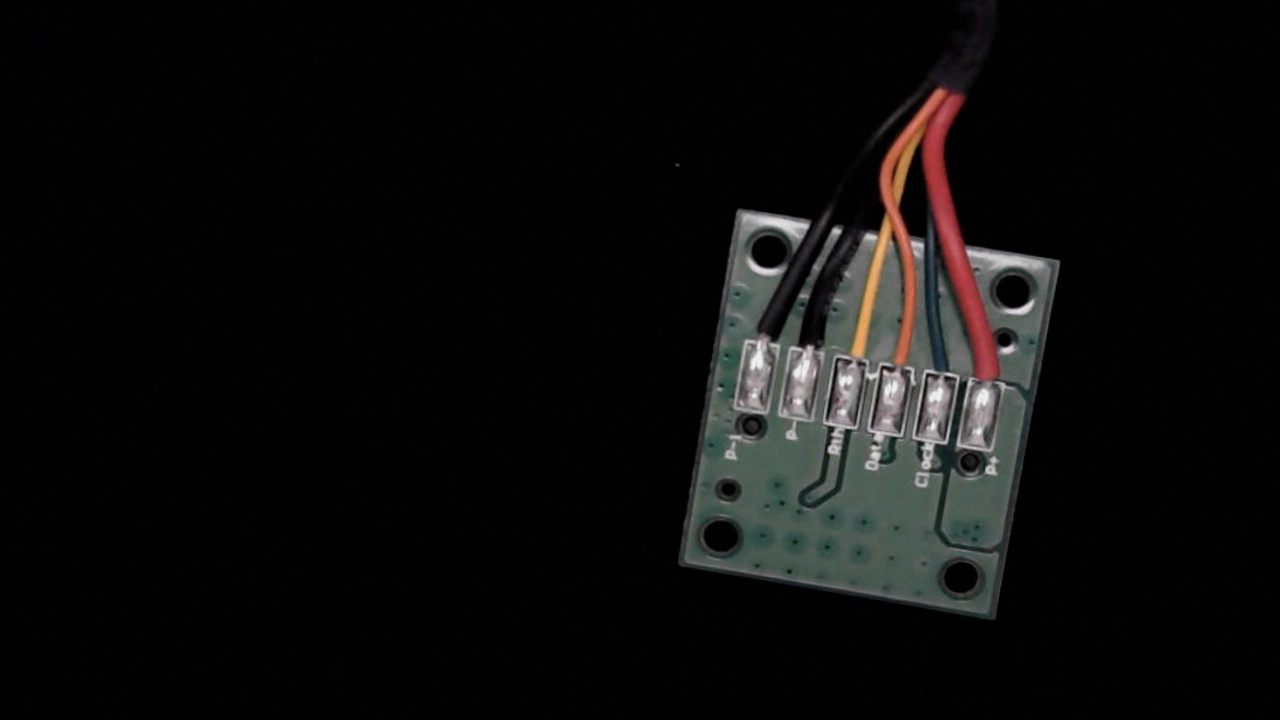Black: (785, 303, 833, 373)
Black1: (741, 294, 786, 365)
Green: (919, 327, 969, 396)
Orange: (876, 309, 926, 389)
Red: (963, 326, 1013, 406)
Yellow: (830, 305, 878, 379)
